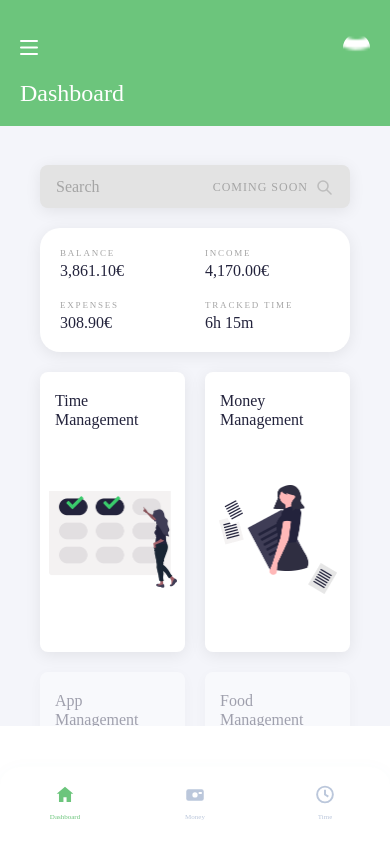
Dashboard screen › switches to the Money tab from the Money Management entry
Click the button with test id "dashboard-card-money" at (278, 512), box [205, 372, 350, 652]
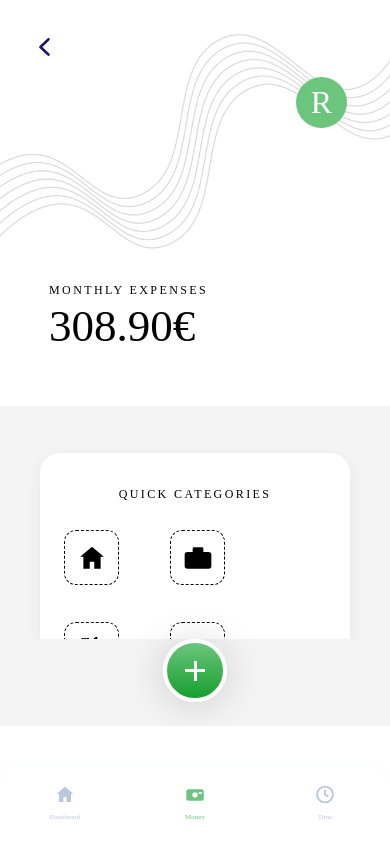
Expected: the element with test id "screen-money-list" is shown
